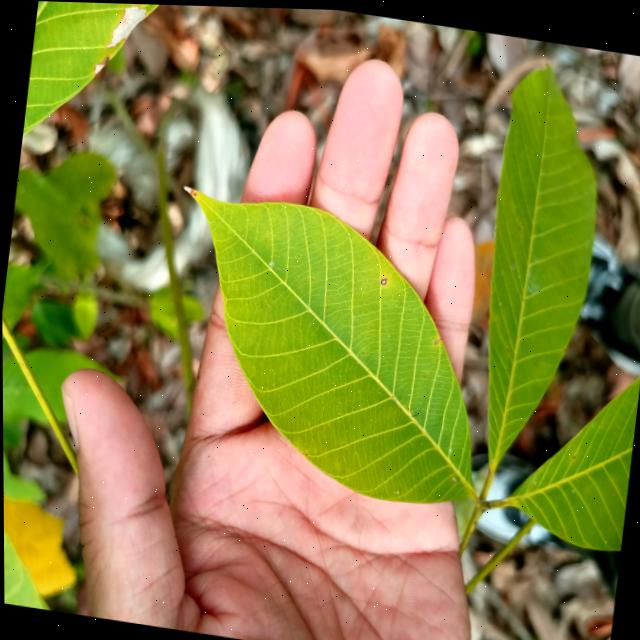Colletotrichum: (378, 275, 385, 282), (449, 473, 453, 478)
